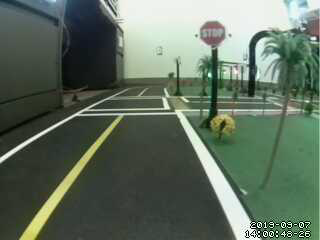Stop_Sign: (196, 19, 233, 55)
